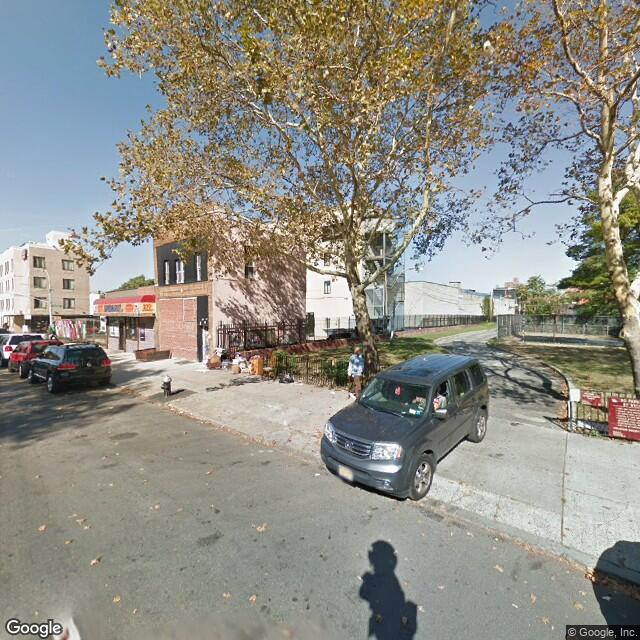litter: (579, 418, 598, 434), (196, 368, 208, 377), (102, 386, 112, 393), (601, 594, 611, 600), (313, 470, 321, 476), (328, 388, 336, 392)
